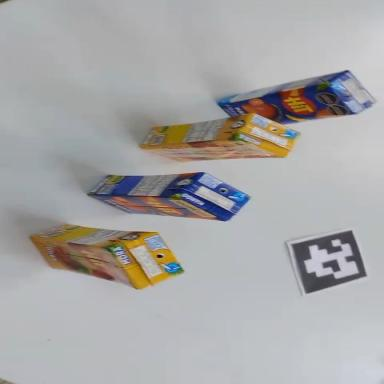HIT-MANGO: (215, 67, 377, 135), (87, 169, 250, 222)
HIT-MORA: (27, 222, 186, 293), (140, 111, 301, 163)
cara_F: (218, 81, 353, 134), (25, 236, 143, 289), (141, 137, 284, 164), (87, 195, 227, 222)
